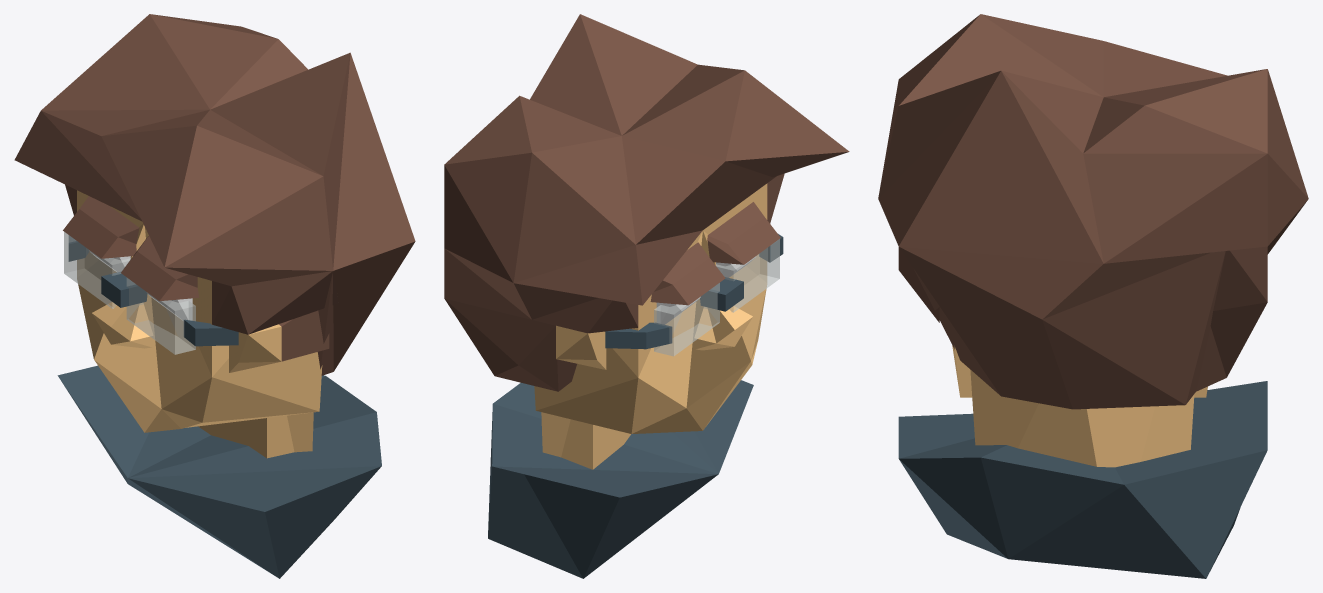
Rendered from scene_bZ5C2SLN2p.glb.
The picture shows the model from 3 angles, left to right: view 1: azimuth 30°, elevation 25°; view 2: azimuth 150°, elevation 25°; view 3: azimuth 270°, elevation 25°; orthographic projection. The views are drawn at different scales.
Visible parts, largest first — view 1: Node; view 2: Node; view 3: Node.
Part boxes in pixels (x1,y1,x2,y2): Node: (14, 14, 415, 578); Node: (444, 14, 849, 578); Node: (878, 14, 1308, 578).
Size of the model in its own units: 0.17 by 0.2765 by 0.21.
